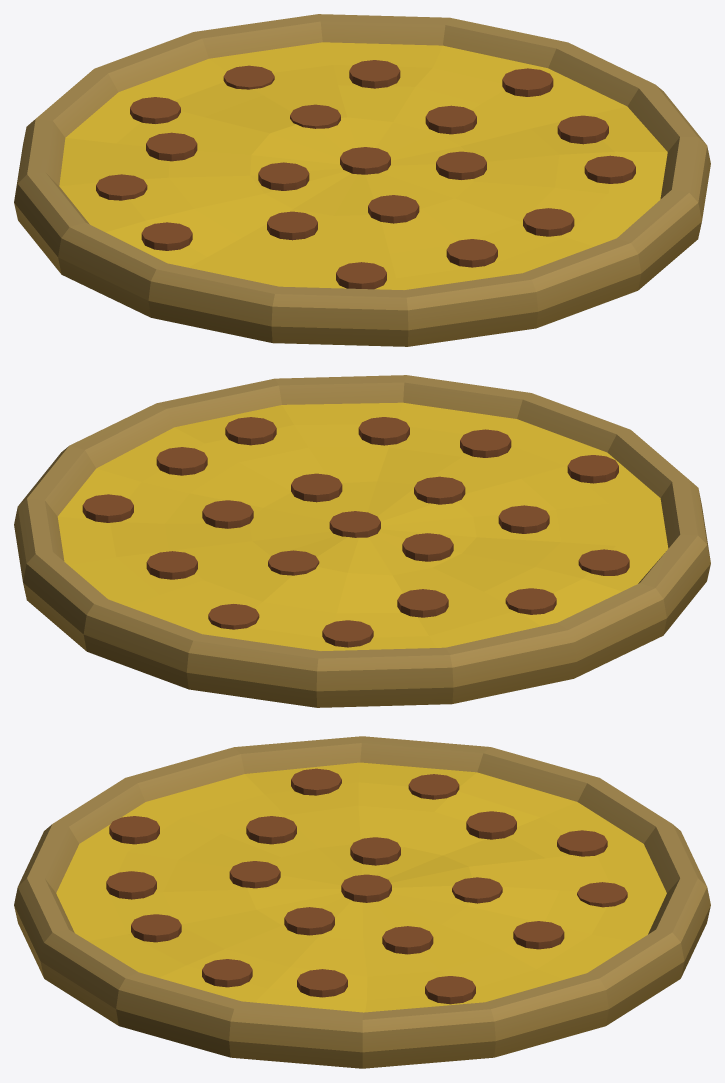
The model's file is pizza_1.glb.
3 views of the same model, one above another, from view 1: azimuth 30°, elevation 25°; view 2: azimuth 150°, elevation 25°; view 3: azimuth 270°, elevation 25° (orthographic).
Visible parts, largest first — view 1: pizza_1; view 2: pizza_1; view 3: pizza_1.
Part boxes in pixels (x1,y1,x2,y2): pizza_1: (14,14,710,346); pizza_1: (14,375,710,707); pizza_1: (14,736,710,1068).
Size of the model in its own units: 0.3946 by 0.0289 by 0.3946.
Materials: 1 (1 with a texture image).
